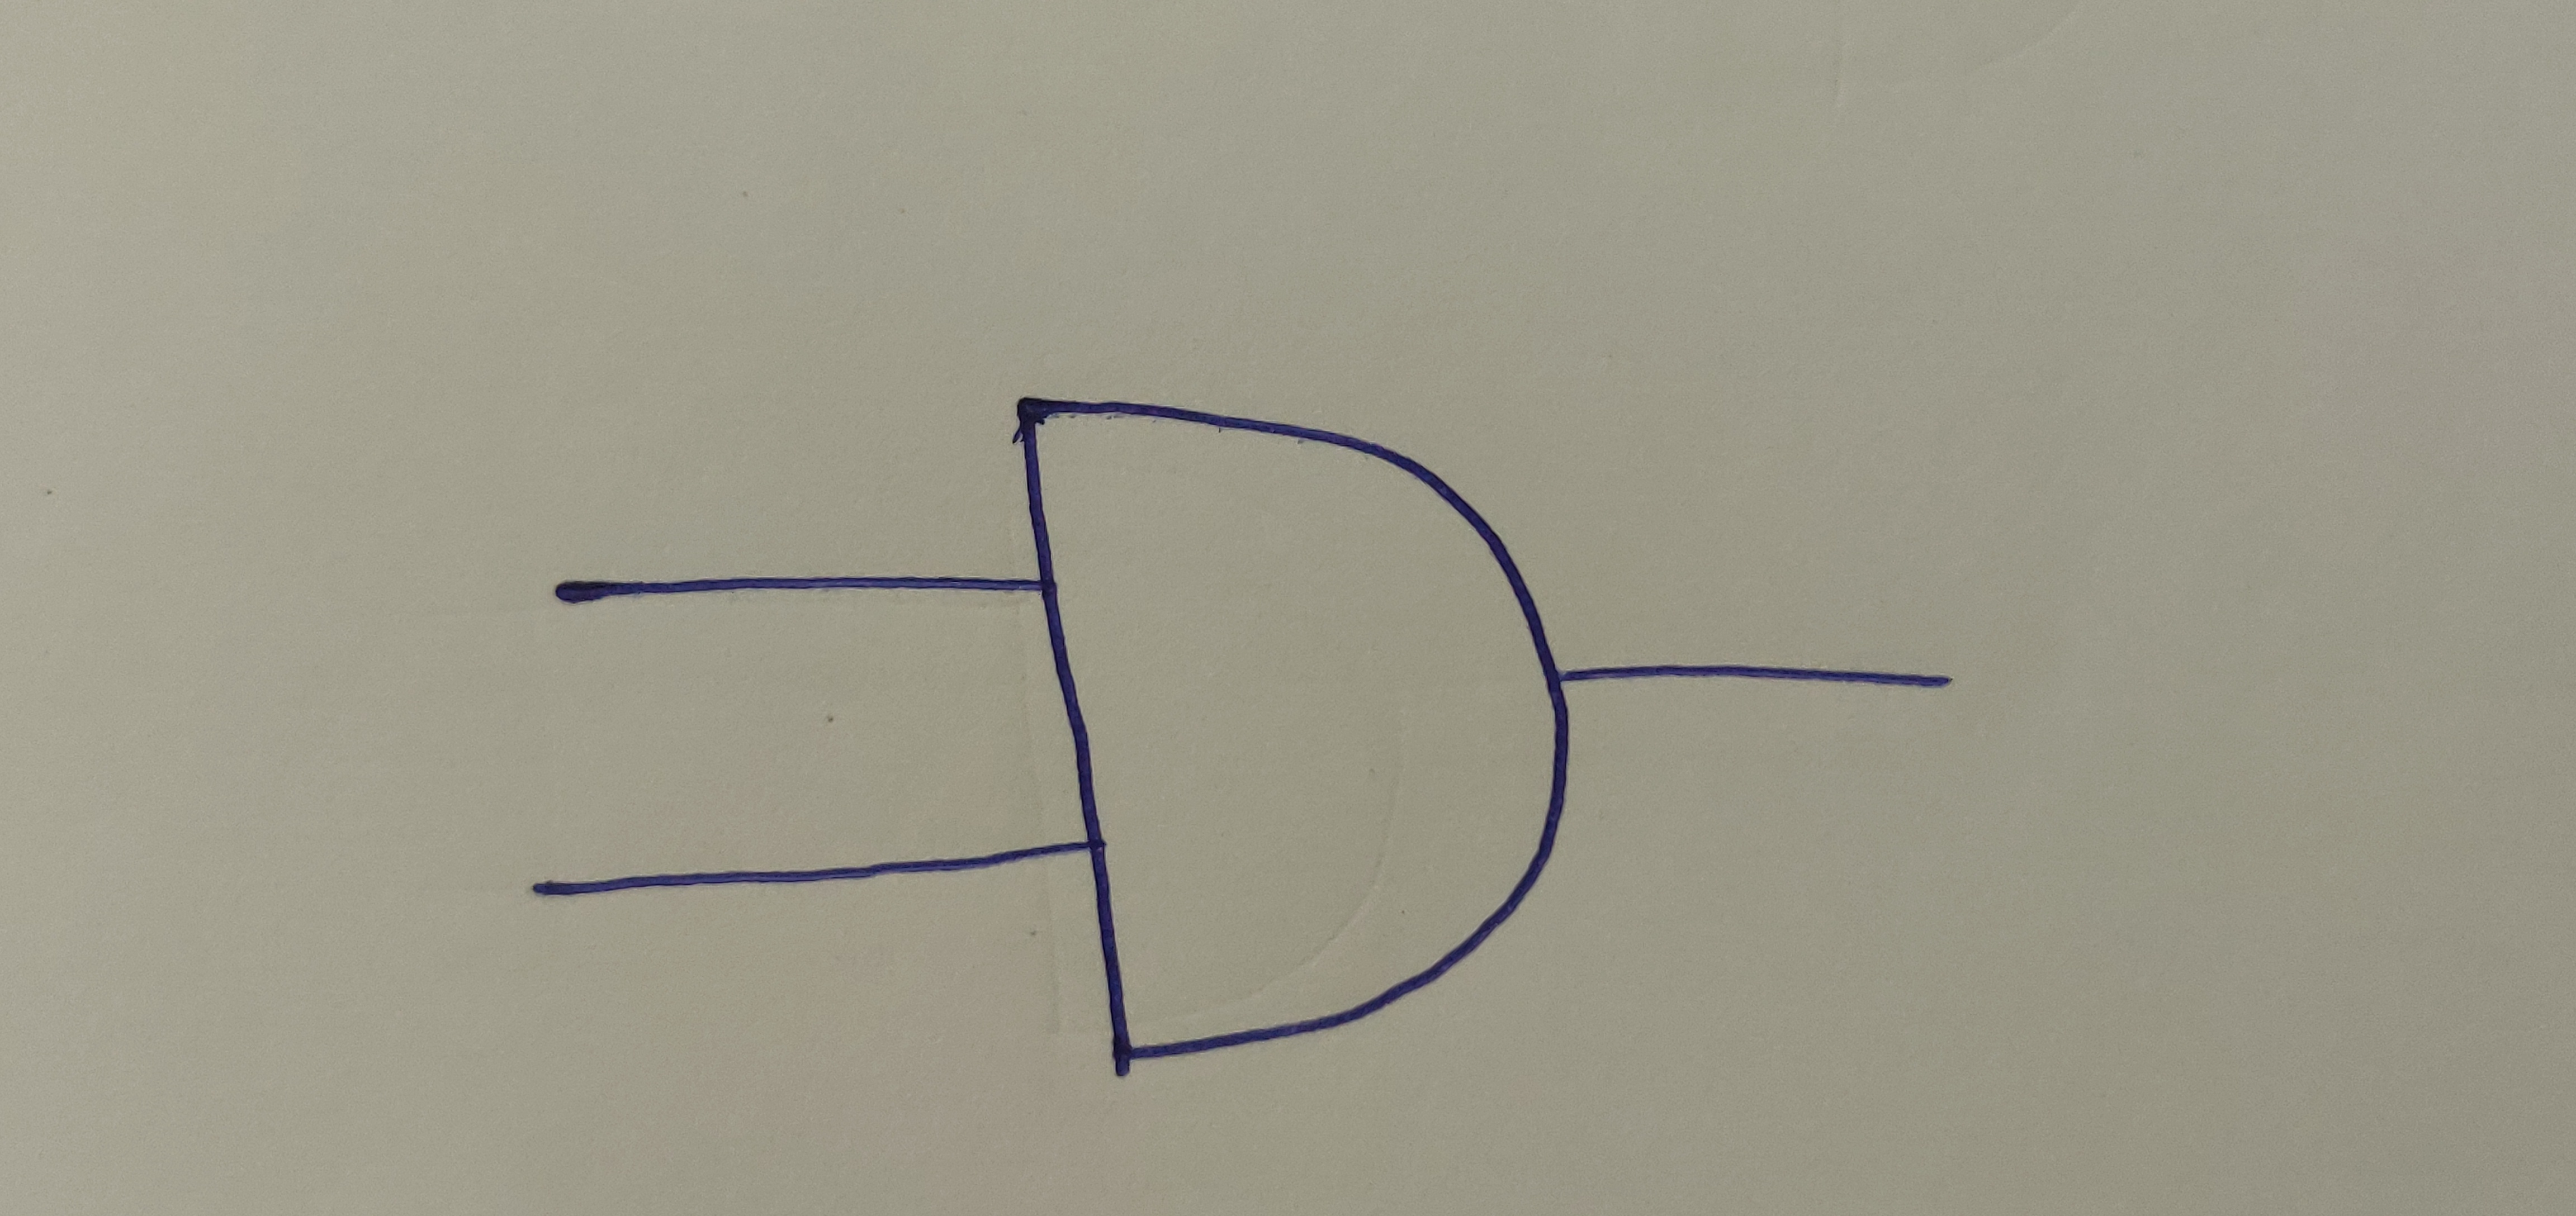and: (1004, 389, 1575, 1066)
